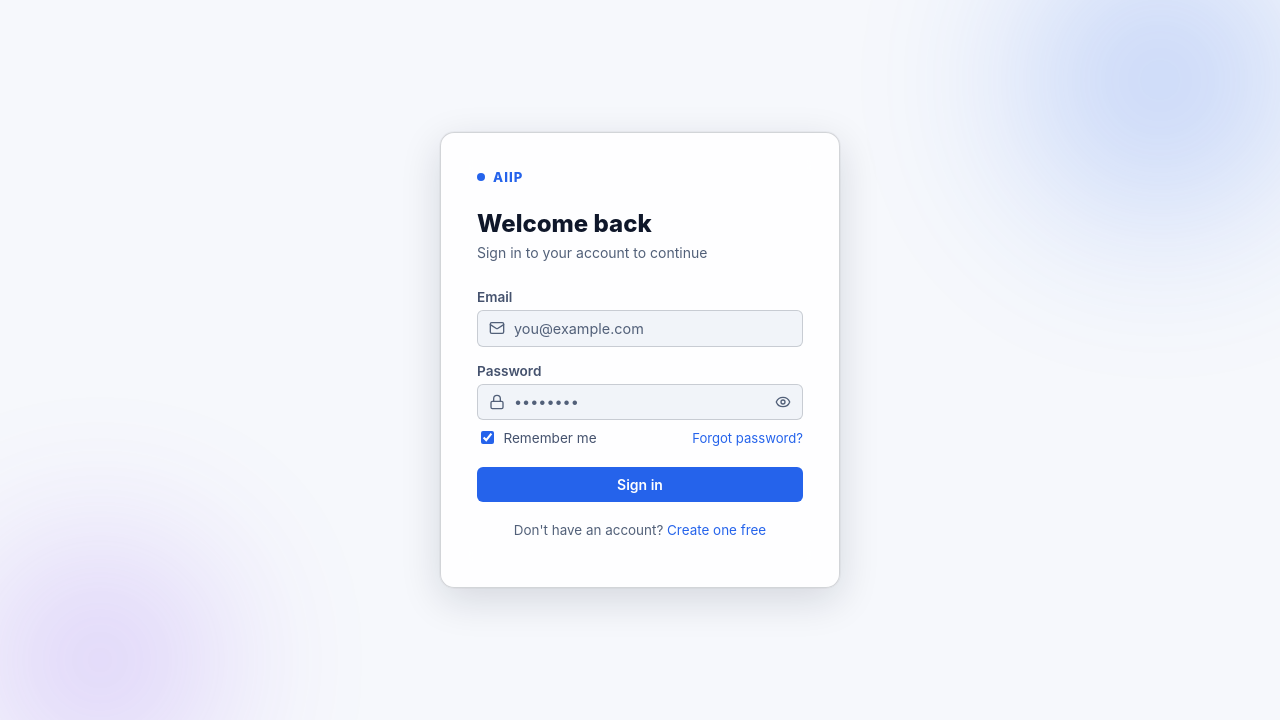
Test: LoginPage › shows a loading spinner while submitting
In the field labelled "Email": (640, 328) top-left (477, 310), bottom-right (803, 347), type "jane@example.com"
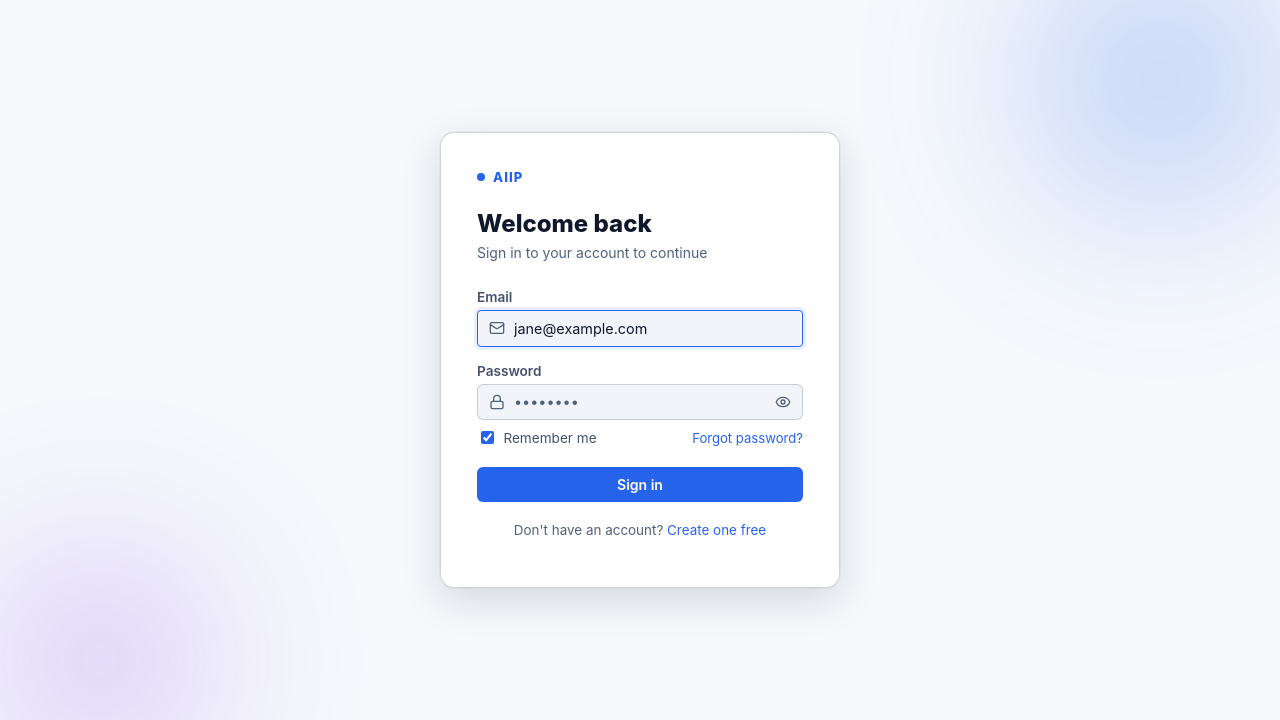
In the password field labelled "Password": (640, 402) top-left (477, 384), bottom-right (803, 420), type "password123"
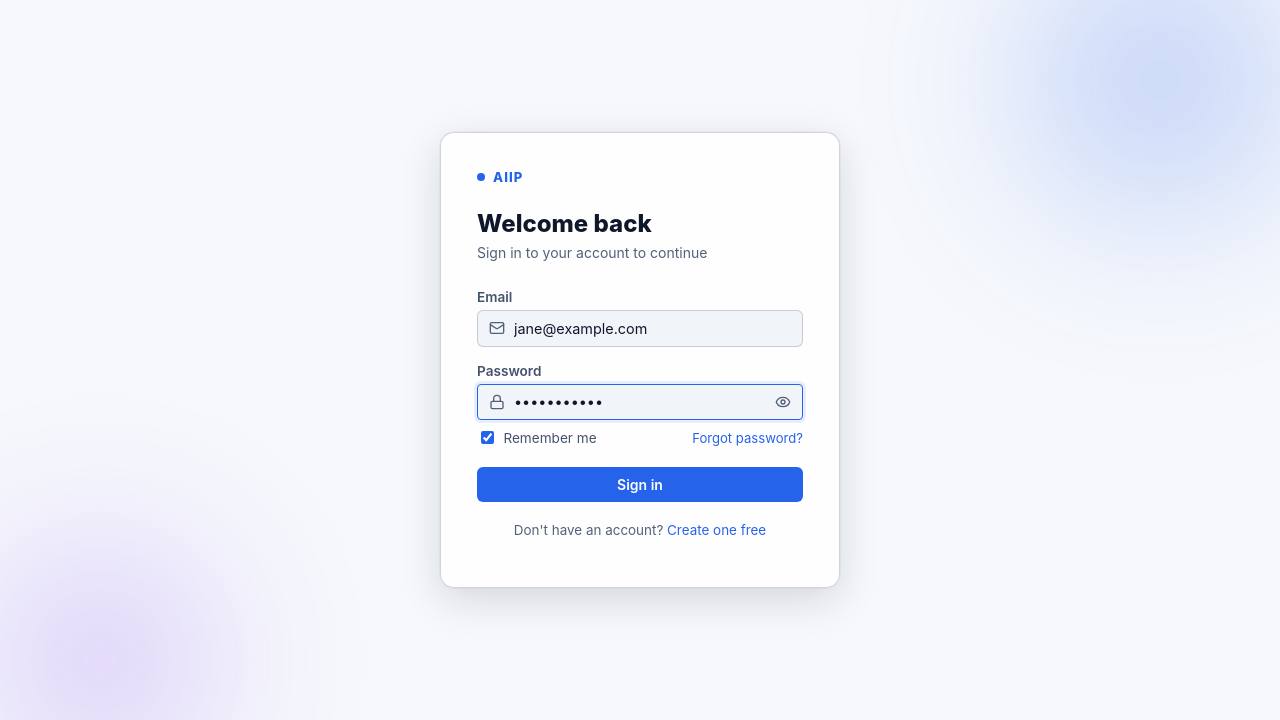
Click the button "Sign in": (640, 484) top-left (477, 467), bottom-right (803, 502)
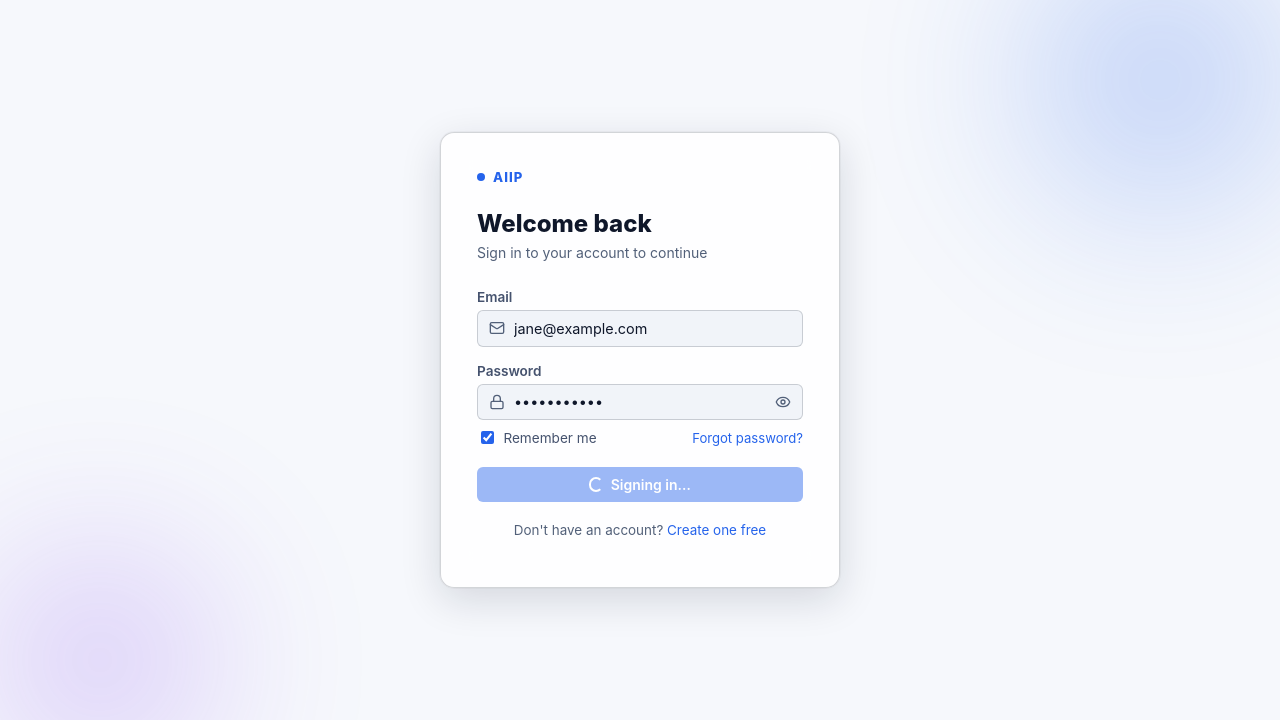
Check: the button "Signing in…" is disabled, box top-left (477, 467), bottom-right (803, 502)
